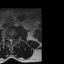CCS_normal: (10, 38, 12, 45)
LFS_severe_stenosis: (14, 37, 15, 42)
LLS_stenosis: (12, 38, 13, 42)
RFS_stenosis: (7, 37, 9, 41)
RLS_normal: (8, 38, 10, 42)
